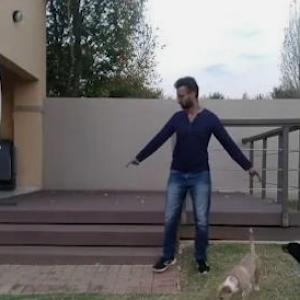land: (125, 73, 259, 268)
